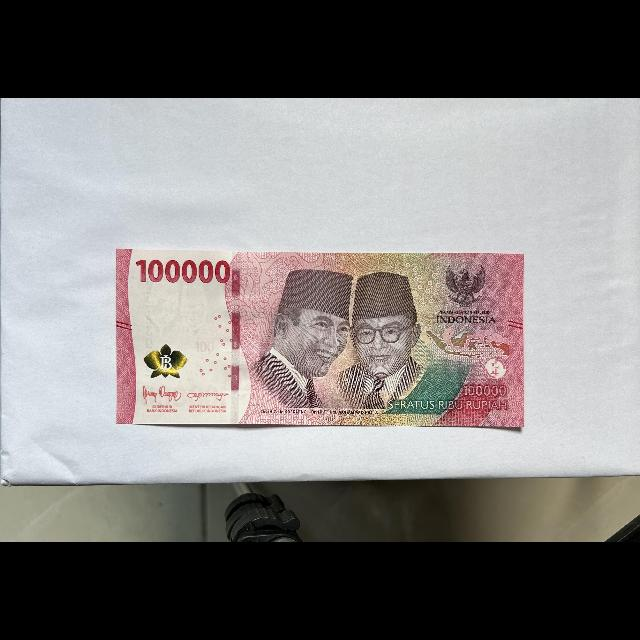Asli-100k: (116, 247, 526, 429)
Tinta-Asli-100k: (143, 342, 189, 380)
